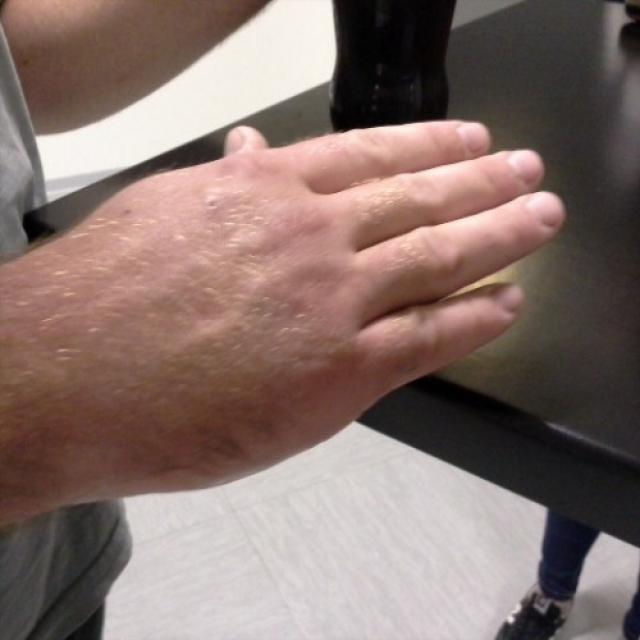paper: (67, 124, 570, 492)
